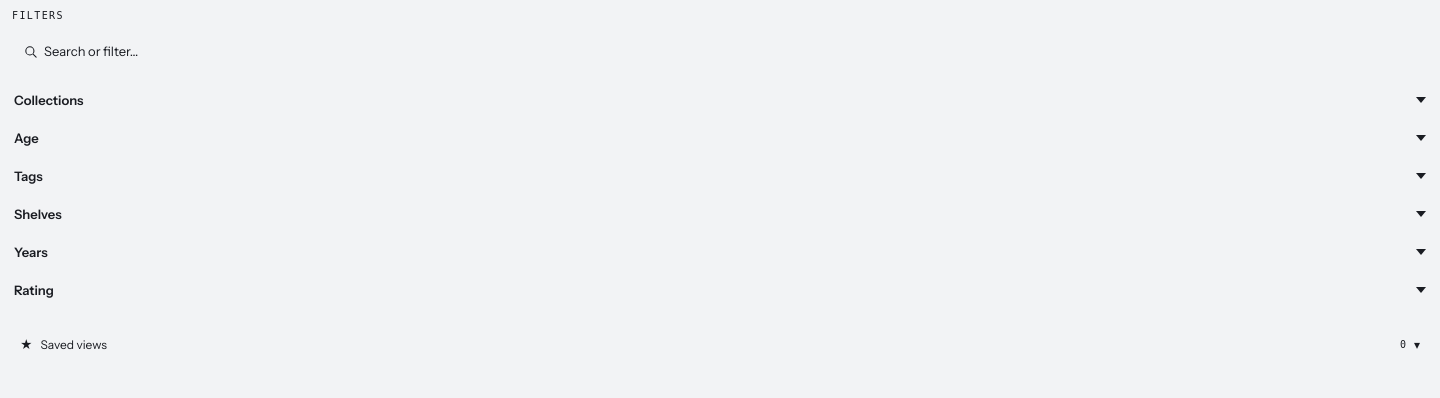
Test: FacetRail › with nothing saved and no filter active the line is still there (count 0, no save button); no flags section when the spec says the rows are the door
Click the button "★ Saved views 0 ▾" at (74, 344), box 12,331 -> 1428,358
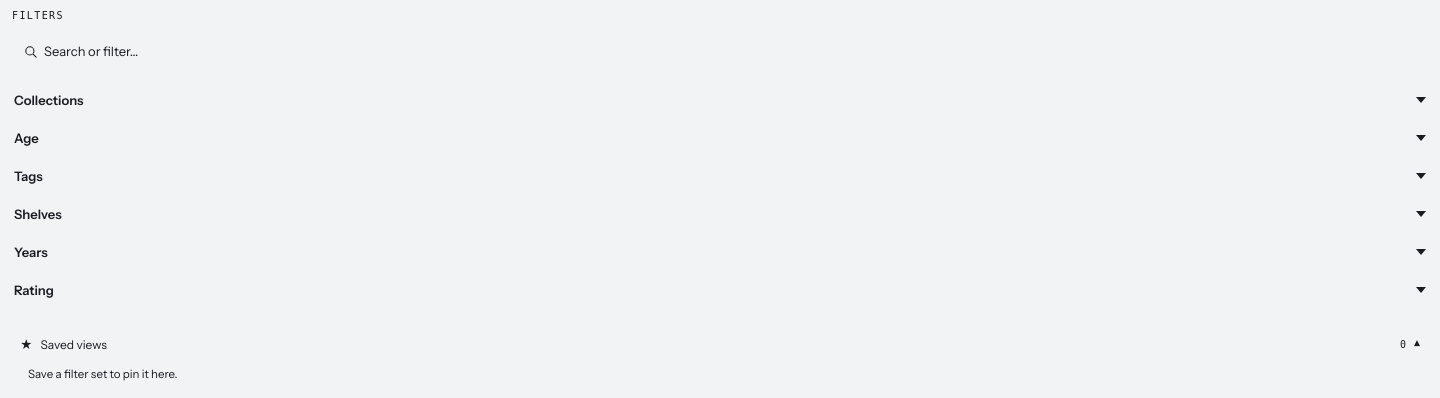
Check: the text "Save a filter set to pin it here." is shown, box 28,367 -> 177,381
